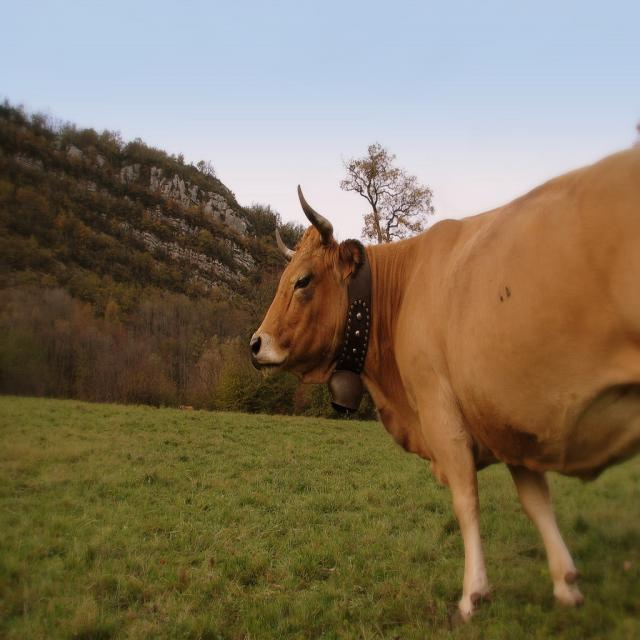Cattle: (241, 154, 627, 630)
